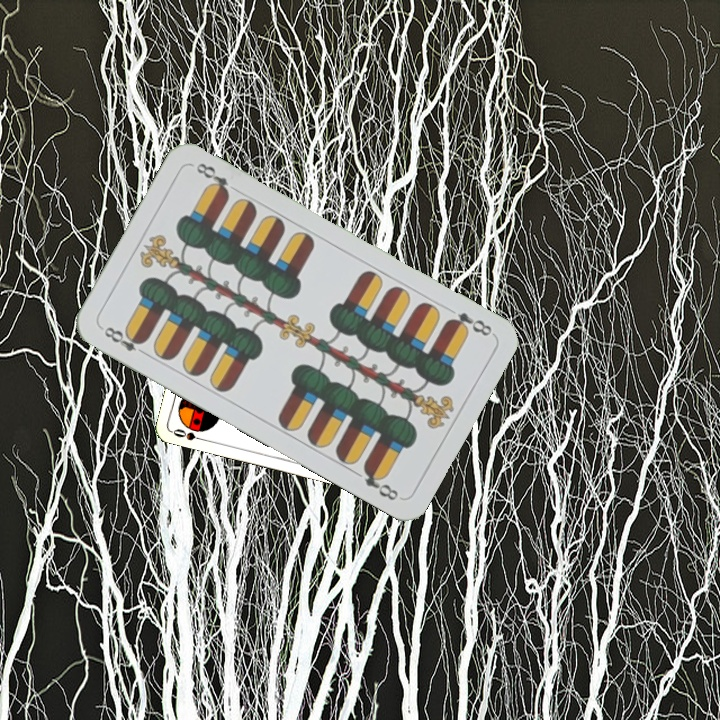E8: (100, 322, 151, 359), (442, 308, 495, 339)
SO: (169, 425, 209, 444)
